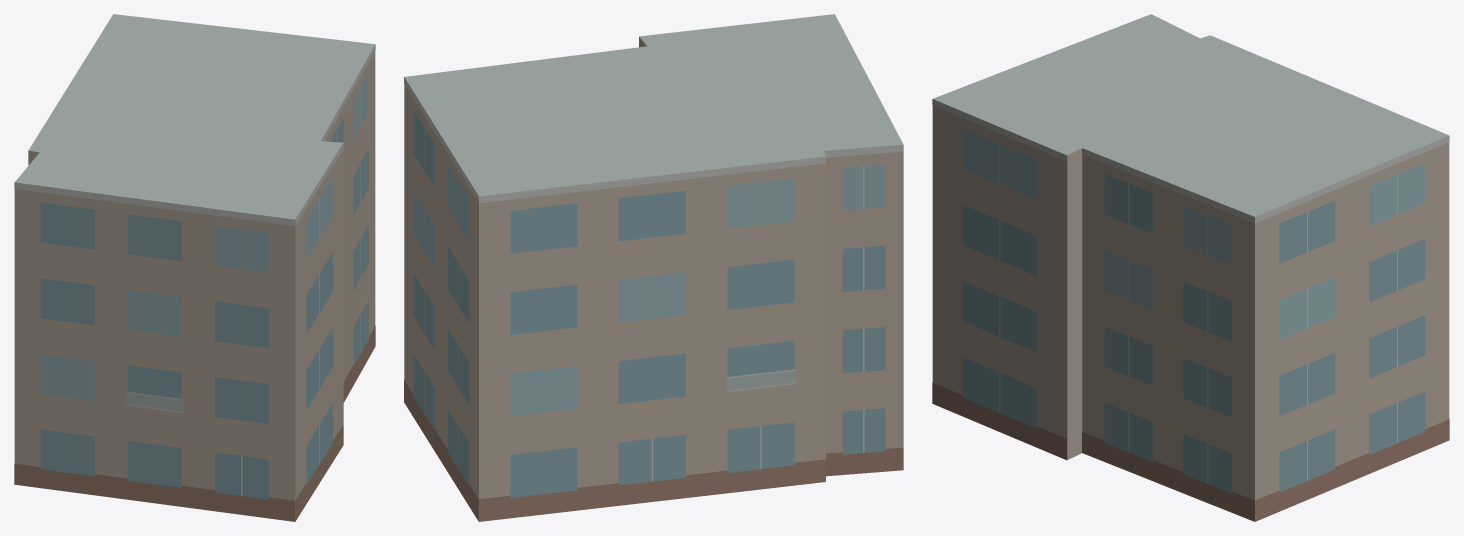
Rendered from survey-upis-32986740.glb.
3 views of the same model, side by side, from view 1: azimuth 30°, elevation 25°; view 2: azimuth 150°, elevation 25°; view 3: azimuth 270°, elevation 25° (orthographic). The views are drawn at different scales.
Parts seen in each view (by area): view 1: survey-upis-32986740.tmp; view 2: survey-upis-32986740.tmp; view 3: survey-upis-32986740.tmp.
Boxes of the visible parts, bbox=[...] form: survey-upis-32986740.tmp: bbox=[14, 14, 375, 521]; survey-upis-32986740.tmp: bbox=[404, 14, 903, 521]; survey-upis-32986740.tmp: bbox=[932, 14, 1449, 521].
Size of the model in its own units: 16.36 by 11.45 by 17.6.
